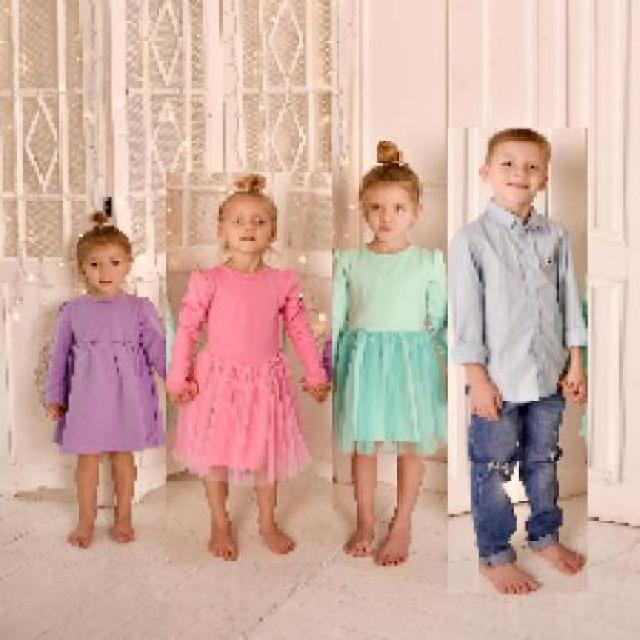child: (298, 138, 468, 568), (446, 128, 588, 595), (165, 172, 332, 565), (44, 208, 196, 548)
